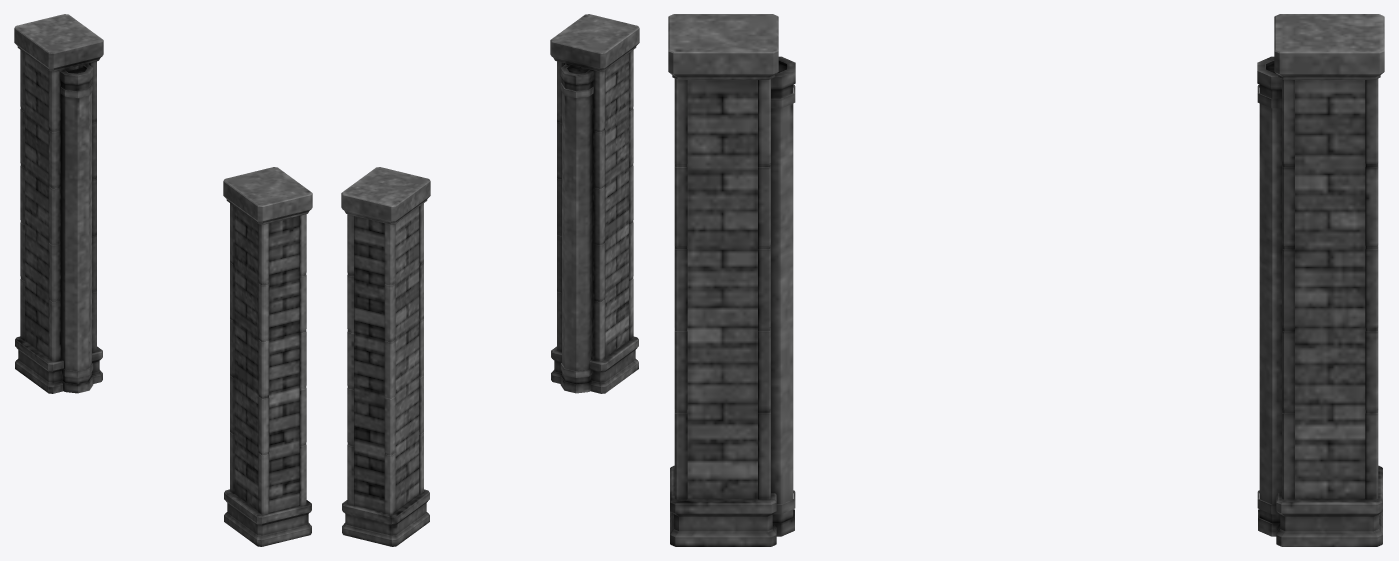
The model's file is SM_GateBase_Stone_0fd4bc.glb.
The picture shows the model from 3 angles, left to right: view 1: azimuth 30°, elevation 25°; view 2: azimuth 150°, elevation 25°; view 3: azimuth 270°, elevation 25°; orthographic projection. The views are drawn at different scales.
Size of the model in its own units: 1.17 by 6.94 by 9.1.
Materials: 1 (1 with a texture image).
